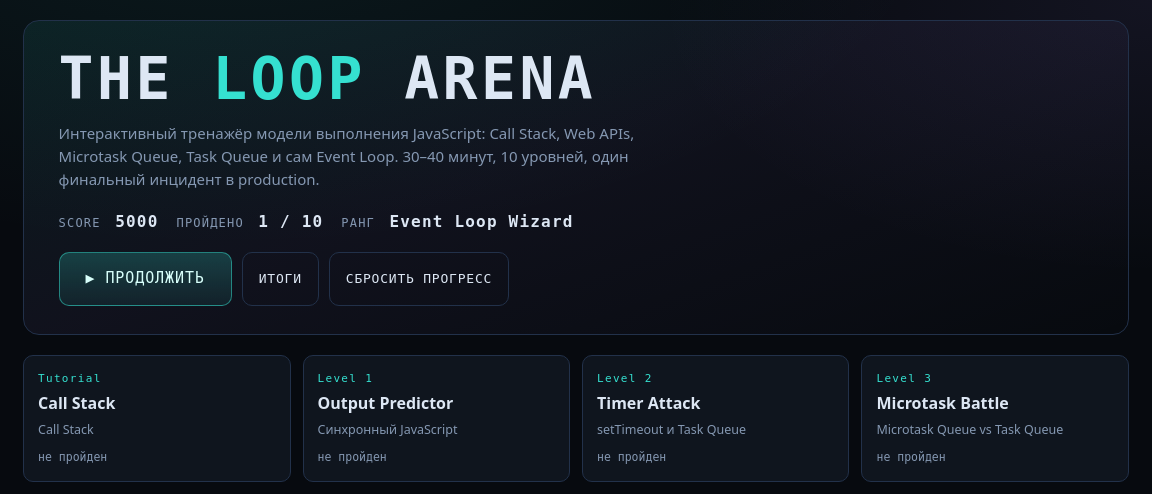
Test: сквозной сценарий: бесконечный режим › сброс прогресса стирает и рекорд режима
What coordinates should you click on to do the following:
click the button "СБРОСИТЬ ПРОГРЕСС"
I would click on:
 (419, 279)
Its box is [329,252,509,306].
(page scrolled)
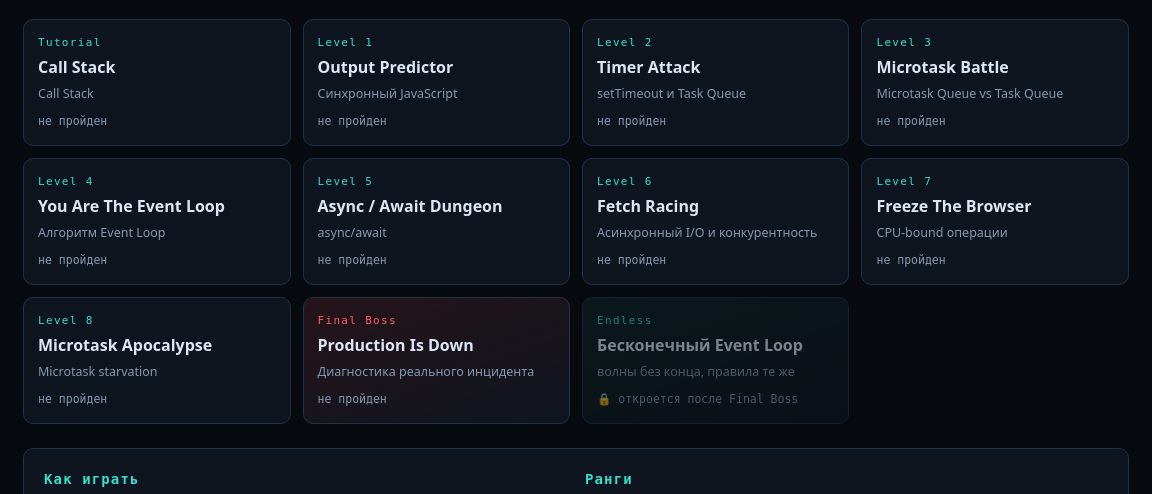
Expected: the button "Бесконечный Event Loop" is disabled, [582,297,850,424]
